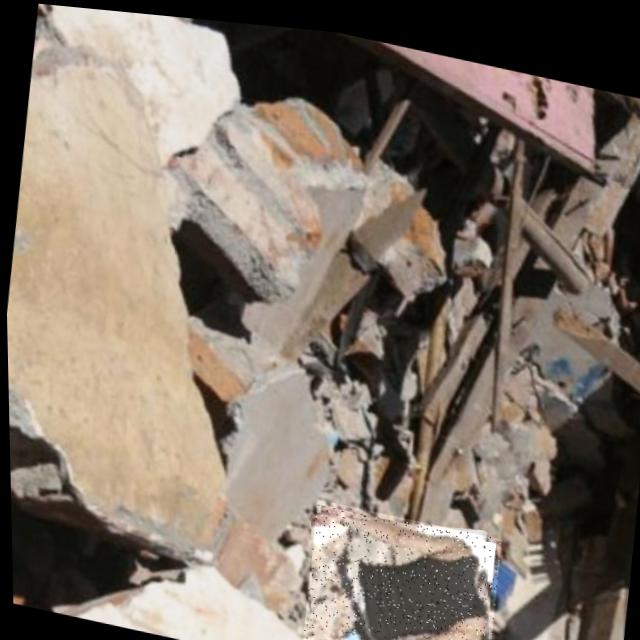Person in Rubble: (293, 491, 500, 640)
